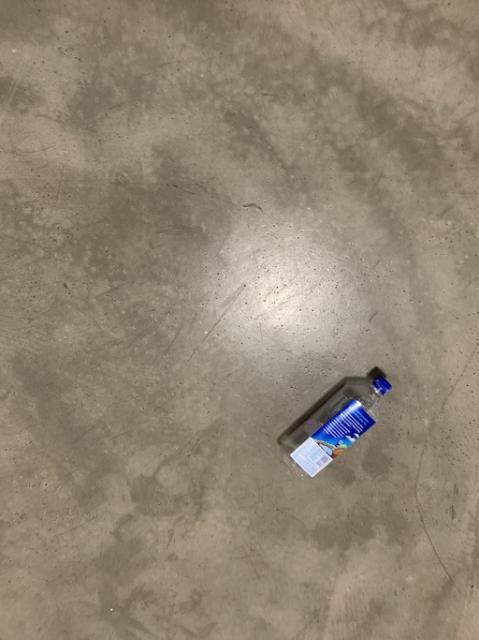plastic: (277, 367, 391, 475)
